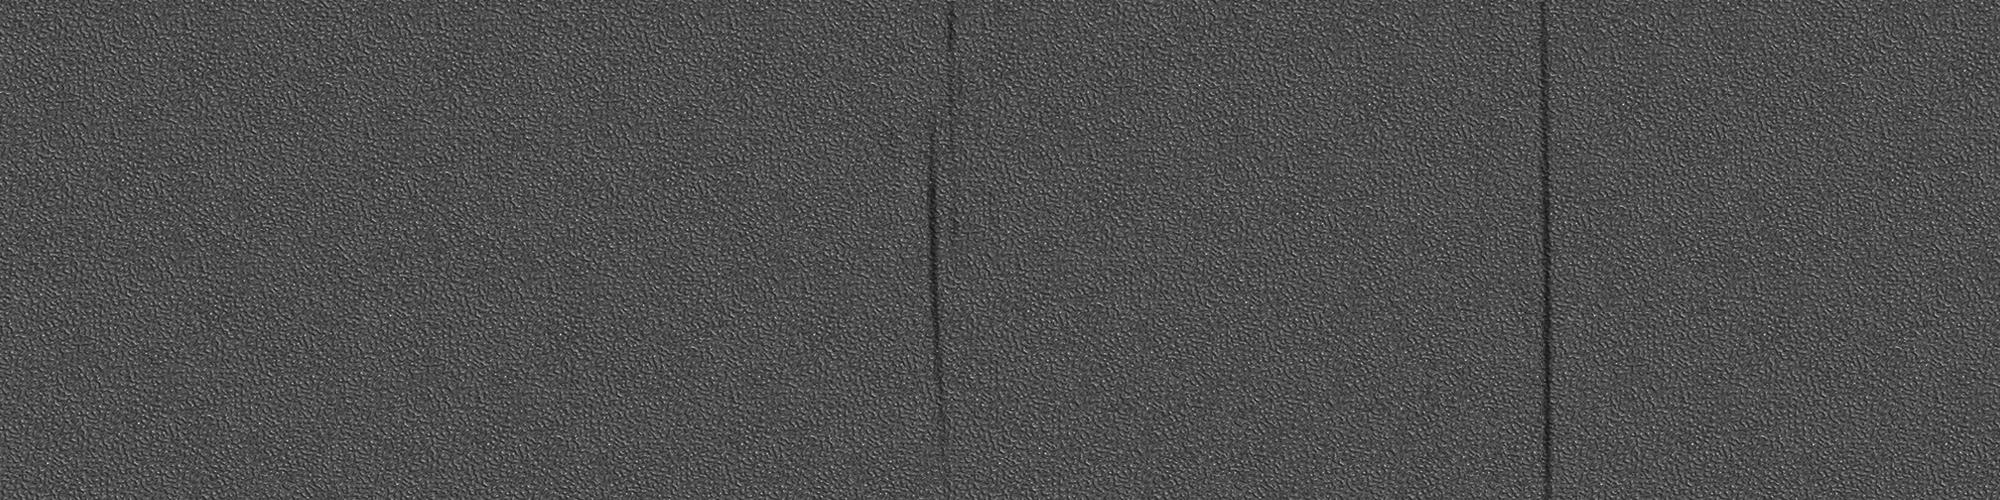DieDrag: (911, 6, 982, 462), (1518, 6, 1571, 497)
